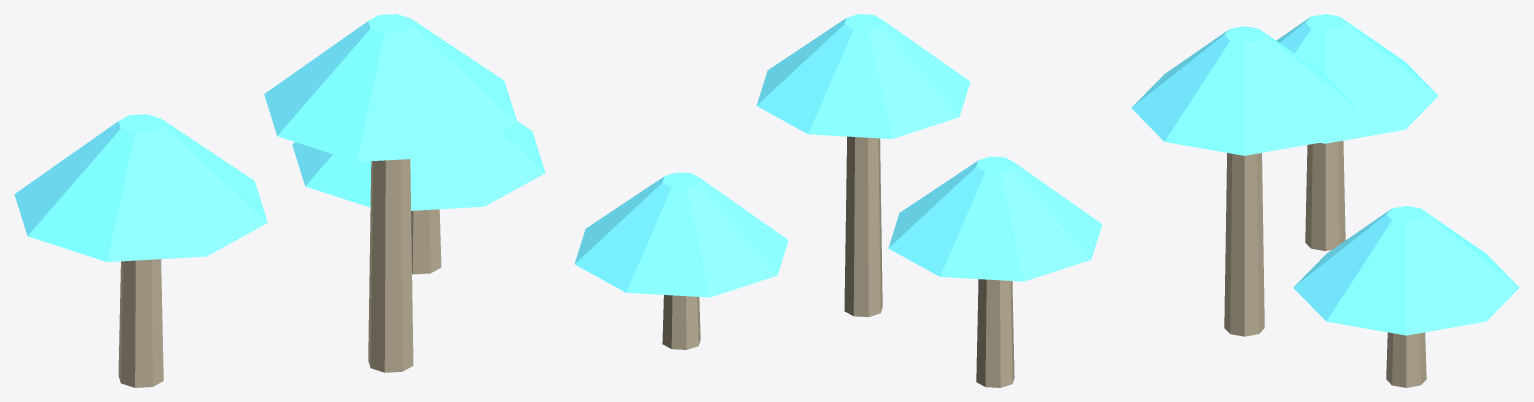
The model's file is cave_glowing_fungi.glb.
3 renders of one model, left to right at view 1: azimuth 30°, elevation 25°; view 2: azimuth 150°, elevation 25°; view 3: azimuth 270°, elevation 25°, orthographic. The views are drawn at different scales.
Visible parts, largest first — view 1: cave_glowing_fungi_Mesh; view 2: cave_glowing_fungi_Mesh; view 3: cave_glowing_fungi_Mesh.
Part boxes in pixels (x1,y1,x2,y2): cave_glowing_fungi_Mesh: [14, 14, 545, 387]; cave_glowing_fungi_Mesh: [574, 14, 1102, 387]; cave_glowing_fungi_Mesh: [1131, 14, 1519, 387].
Size of the model in its own units: 1.36 by 0.8 by 0.96.
